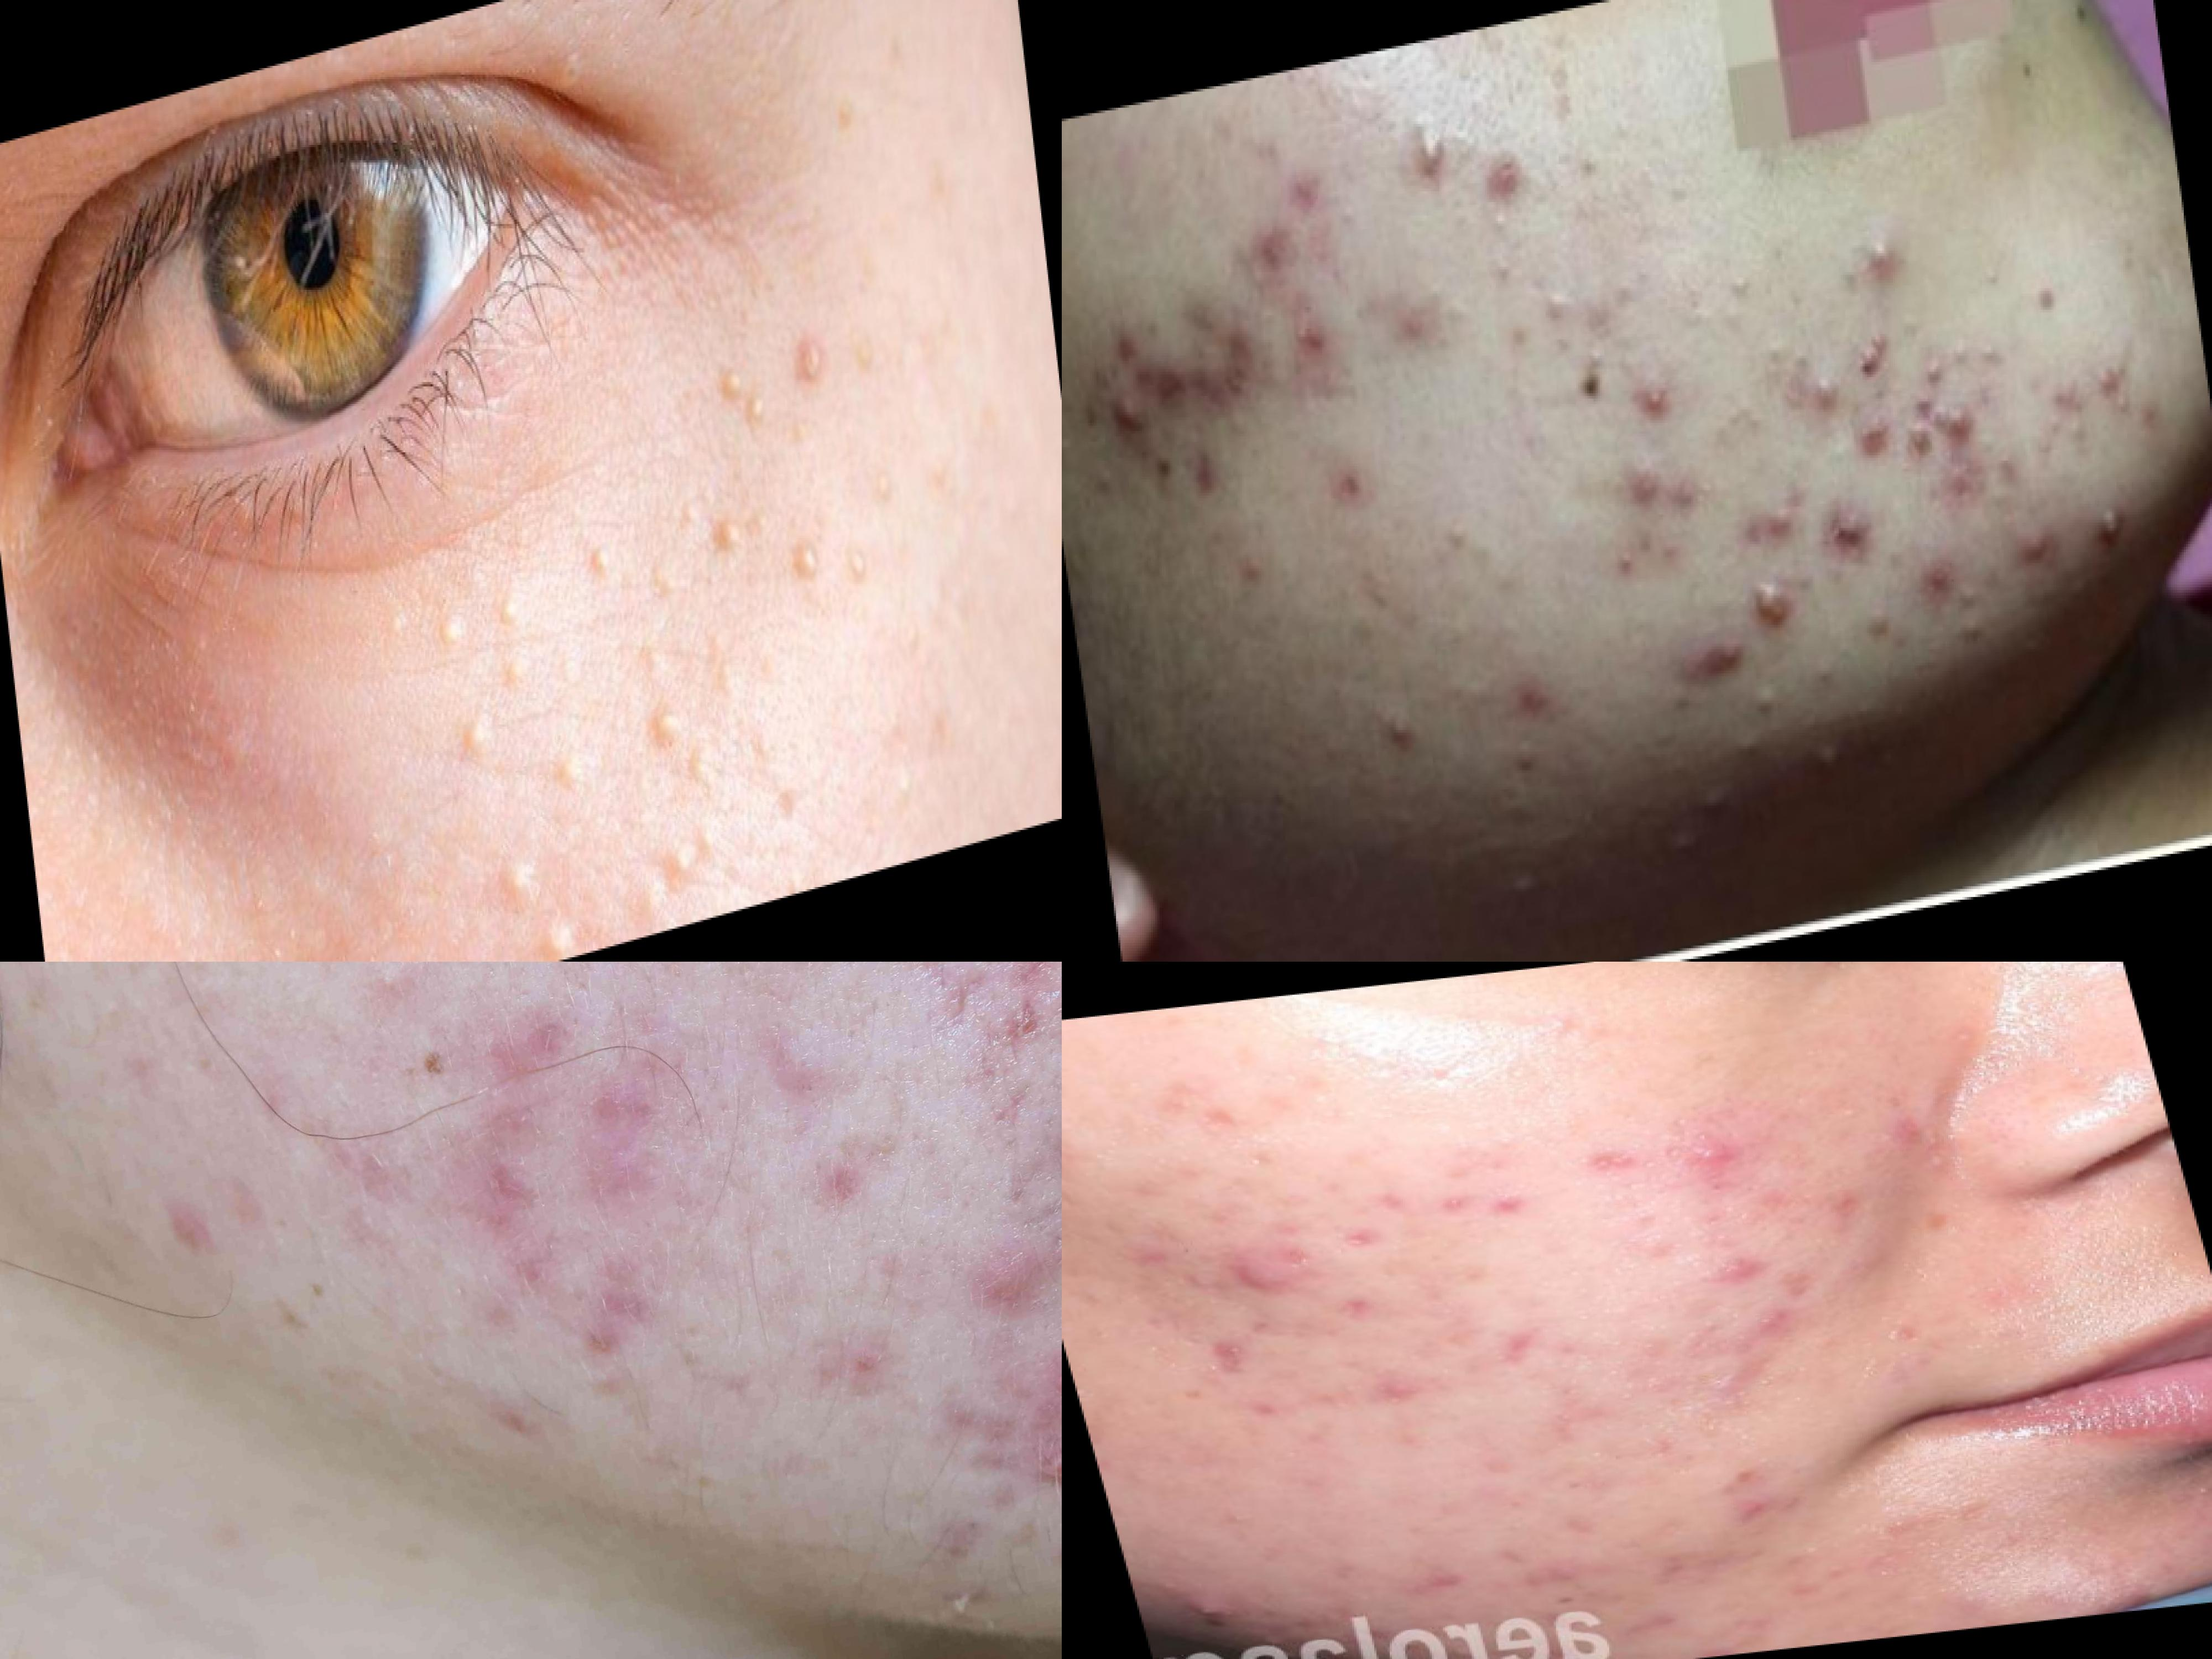acne_scars: (1322, 1161, 1548, 1267), (1115, 335, 1266, 439), (1144, 1316, 1298, 1399), (1136, 1080, 1278, 1159), (1193, 1394, 1313, 1445), (1489, 1312, 1568, 1378)
cystic: (1197, 1243, 1329, 1324)
milium: (415, 573, 557, 781), (620, 640, 732, 828), (482, 810, 590, 962), (672, 458, 773, 592), (700, 338, 787, 462), (611, 814, 704, 927), (782, 308, 841, 410), (540, 735, 589, 814), (840, 512, 881, 603), (577, 516, 620, 596), (784, 519, 827, 591), (1822, 1077, 1883, 1127)
papular: (972, 1309, 1062, 1577), (948, 1218, 1062, 1342), (1627, 1108, 1775, 1204), (1674, 608, 1766, 697), (1346, 1352, 1447, 1432), (1263, 282, 1343, 378), (1588, 457, 1683, 526), (1813, 481, 1883, 575), (1238, 197, 1310, 286), (1611, 362, 1696, 429), (1926, 403, 1994, 476), (1507, 657, 1573, 727), (2003, 511, 2066, 582), (1912, 544, 1972, 617), (2040, 354, 2101, 423), (1855, 587, 1918, 652), (1747, 483, 1808, 547), (1857, 410, 1893, 491)
purulent: (1392, 98, 1470, 213), (1148, 1575, 1256, 1656), (1846, 211, 1928, 296), (1733, 565, 1806, 640), (2083, 488, 2142, 556)
whitehead: (1757, 326, 1850, 451), (1919, 997, 2017, 1072), (1367, 688, 1437, 786), (1409, 504, 1501, 577), (1705, 246, 1770, 349), (1484, 732, 1559, 819), (1914, 321, 2010, 389), (1554, 122, 1622, 216), (1418, 260, 1475, 340), (2087, 343, 2144, 420), (1531, 272, 1588, 333), (1951, 582, 1994, 659), (1695, 760, 1742, 824), (2048, 410, 2099, 465), (1646, 819, 1696, 873), (1723, 713, 1768, 772), (1482, 195, 1517, 258), (1726, 678, 1785, 711), (1806, 735, 1846, 782)
